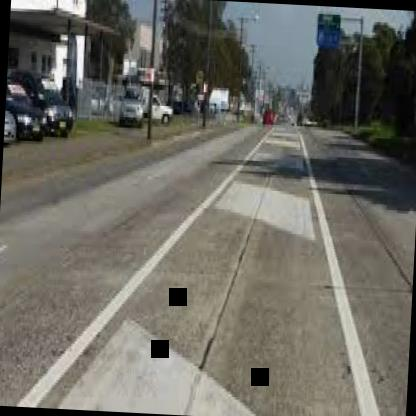car: (4, 74, 51, 144), (26, 70, 76, 134), (116, 68, 152, 138), (145, 86, 178, 128)
